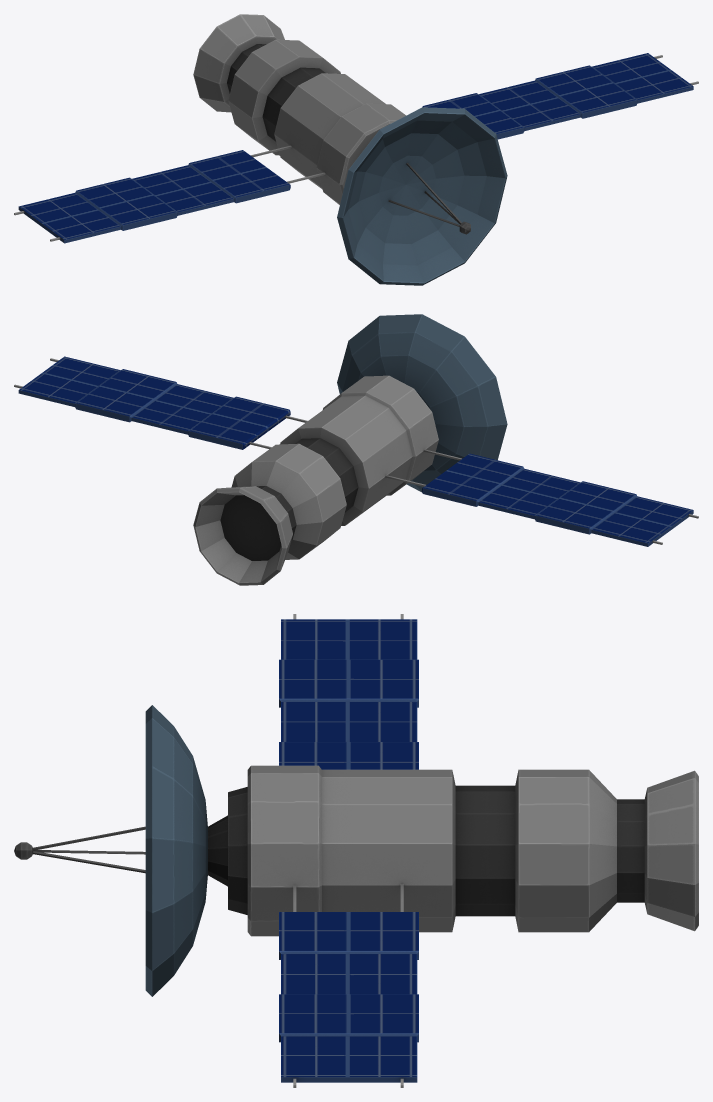
File: satellite.glb
The picture shows the model from 3 angles, top to bottom: view 1: azimuth 30°, elevation 25°; view 2: azimuth 150°, elevation 25°; view 3: azimuth 270°, elevation 25°; orthographic projection. The views are drawn at different scales.
Parts seen in each view (by area): view 1: Object_2; view 2: Object_2; view 3: Object_2.
Part boxes in pixels (x1,y1,x2,y2): Object_2: (14,14,698,285); Object_2: (14,314,698,585); Object_2: (14,614,698,1087).
Size of the model in its own units: 41.03 by 10.8 by 25.21.
Materials: 1 (1 with a texture image).
